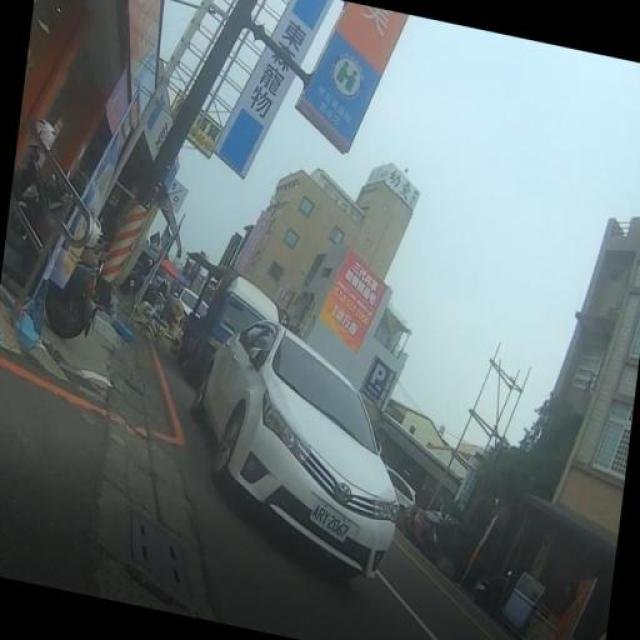Legalparking: (212, 270, 454, 620)
